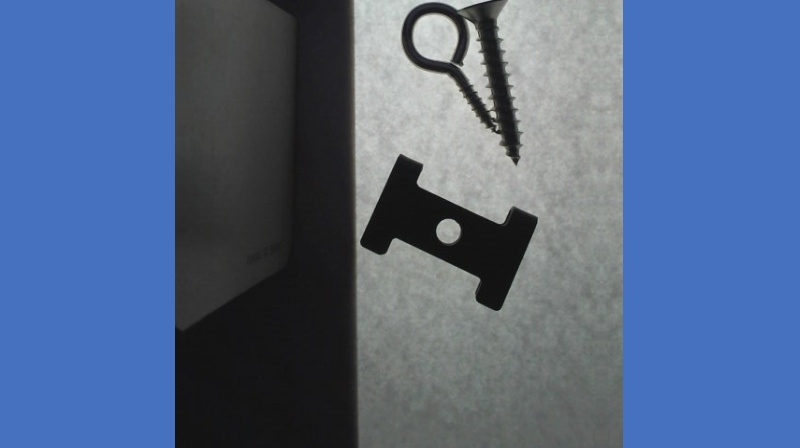O001: (401, 0, 497, 133)
O002: (359, 151, 539, 311)
S001: (458, 0, 523, 166)
